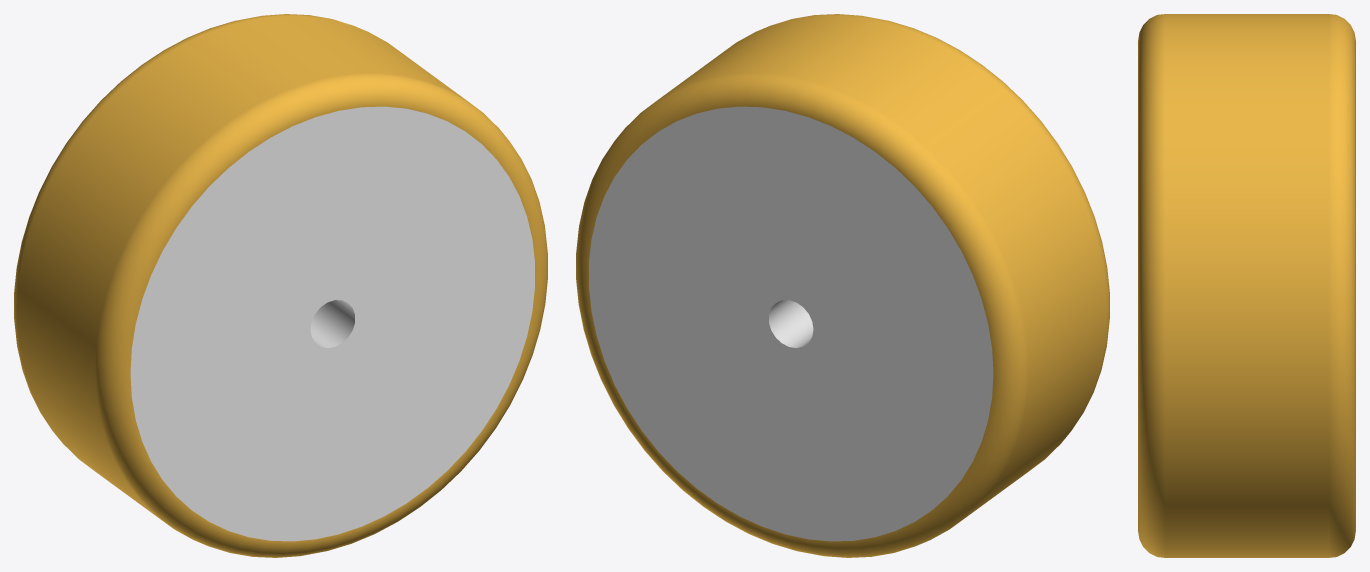
The model's file is linear_axis_argo_wheel.dae.
The picture shows the model from 3 angles, left to right: view 1: azimuth 30°, elevation 25°; view 2: azimuth 150°, elevation 25°; view 3: azimuth 270°, elevation 25°; orthographic projection. The views are drawn at different scales.
Parts seen in each view (by area): view 1: EMROX-Argo IPA-HN V1.02.03 Simu_RoX Simple Argo Argodrive Ra; view 2: EMROX-Argo IPA-HN V1.02.03 Simu_RoX Simple Argo Argodrive Ra; view 3: EMROX-Argo IPA-HN V1.02.03 Simu_RoX Simple Argo Argodrive Ra.
Part boxes in pixels (x1=…): EMROX-Argo IPA-HN V1.02.03 Simu_RoX Simple Argo Argodrive Ra: x1=14, y1=14, x2=547, y2=557; EMROX-Argo IPA-HN V1.02.03 Simu_RoX Simple Argo Argodrive Ra: x1=576, y1=14, x2=1109, y2=557; EMROX-Argo IPA-HN V1.02.03 Simu_RoX Simple Argo Argodrive Ra: x1=1138, y1=14, x2=1355, y2=557.
Bounding box in the file's own units: 100 × 40 × 99.85.
